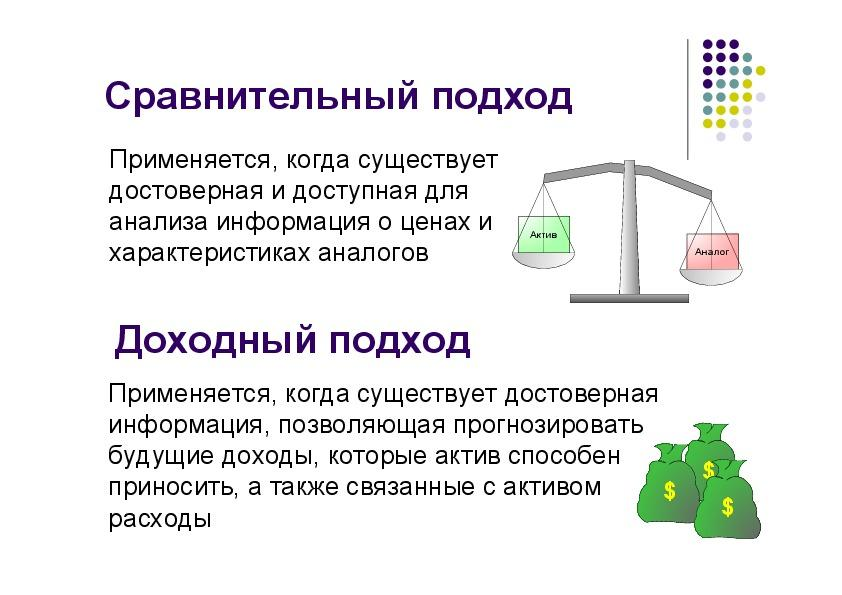paragraph: (89, 368, 666, 569), (85, 137, 570, 291)
title: (104, 69, 583, 125), (110, 311, 490, 366)
